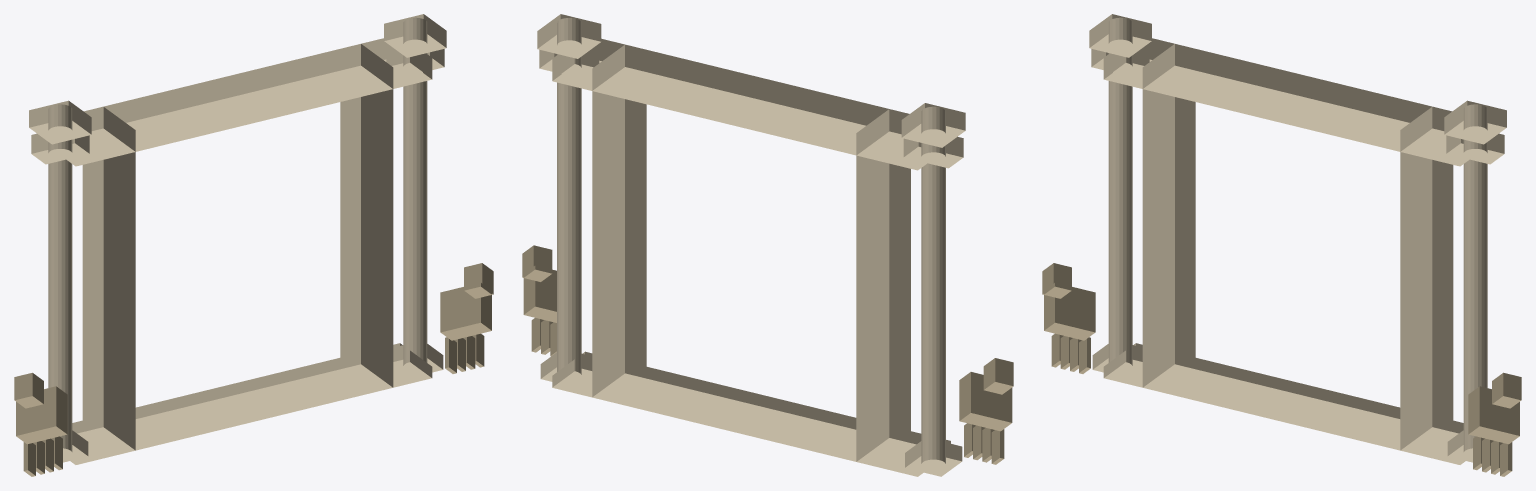
Rendered from persepolis_gateway.glb.
3 renders of one model, left to right at view 1: azimuth 30°, elevation 25°; view 2: azimuth 150°, elevation 25°; view 3: azimuth 330°, elevation 25°, orthographic. The views are drawn at different scales.
Parts seen in each view (by area): view 1: persepolis_gateway; view 2: persepolis_gateway; view 3: persepolis_gateway.
Boxes of the visible parts, box(x1,y1,x2,y2) form: persepolis_gateway: box(14, 14, 493, 476); persepolis_gateway: box(522, 14, 1013, 476); persepolis_gateway: box(1042, 14, 1521, 476).
Bounding box in the file's own units: 6.72 × 4.72 × 0.94.
